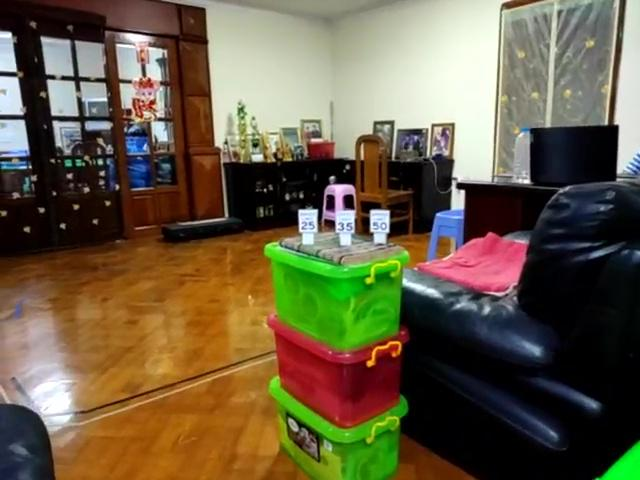Speed Limit 25: (298, 208, 319, 235)
Speed Limit 35: (333, 209, 355, 233)
Speed Limit 50: (369, 208, 391, 233)
